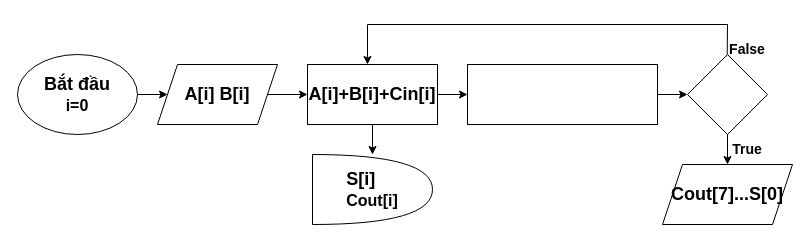
This 810x242 diagram has some shape labels left out. Here are the shapes that lost their labels. From the top down, the box of each, then its label:
(466, 64, 658, 124): A[i+1]+B[i+1]+Cout[i]
(686, 54, 768, 134): i=7
